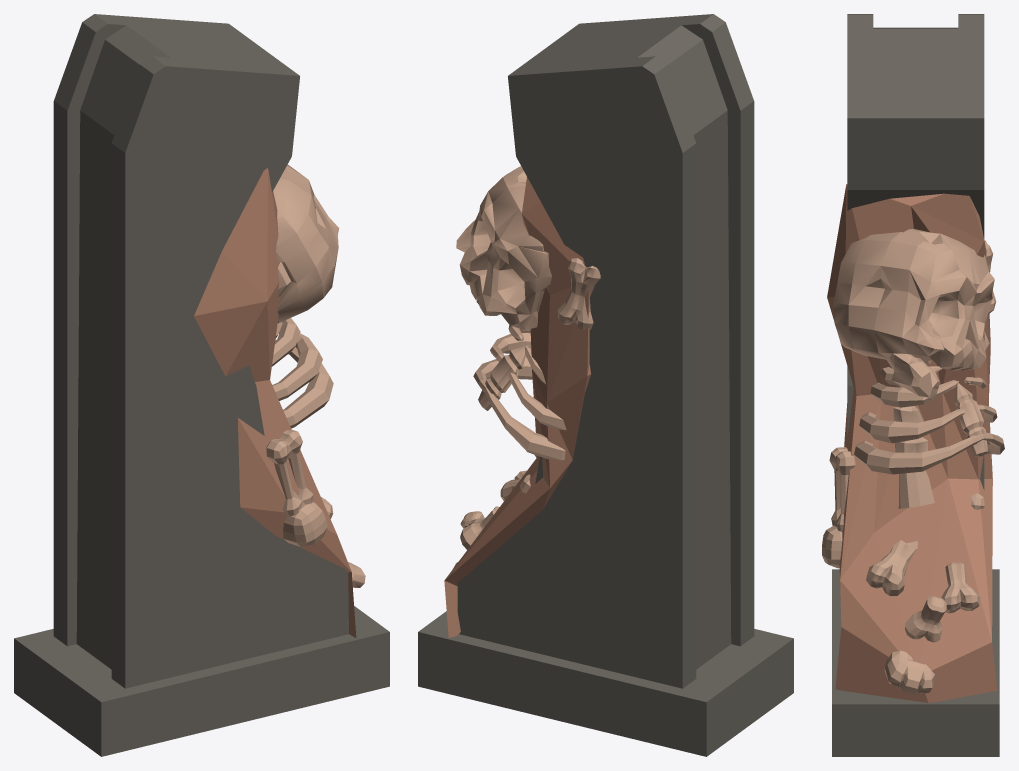
File: caelid_statue.glb
3 renders of one model, left to right at view 1: azimuth 30°, elevation 25°; view 2: azimuth 150°, elevation 25°; view 3: azimuth 270°, elevation 25°, orthographic. The views are drawn at different scales.
Visible parts, largest first — view 1: Burial Statue 2.024; view 2: Burial Statue 2.024; view 3: Burial Statue 2.024.
Boxes of the visible parts, left/top/right/bottom form: Burial Statue 2.024: left=14, top=14, right=389, bottom=756; Burial Statue 2.024: left=418, top=14, right=793, bottom=756; Burial Statue 2.024: left=822, top=14, right=1004, bottom=756.
Bounding box in the file's own units: 0.1357 × 0.289 × 0.0748.
